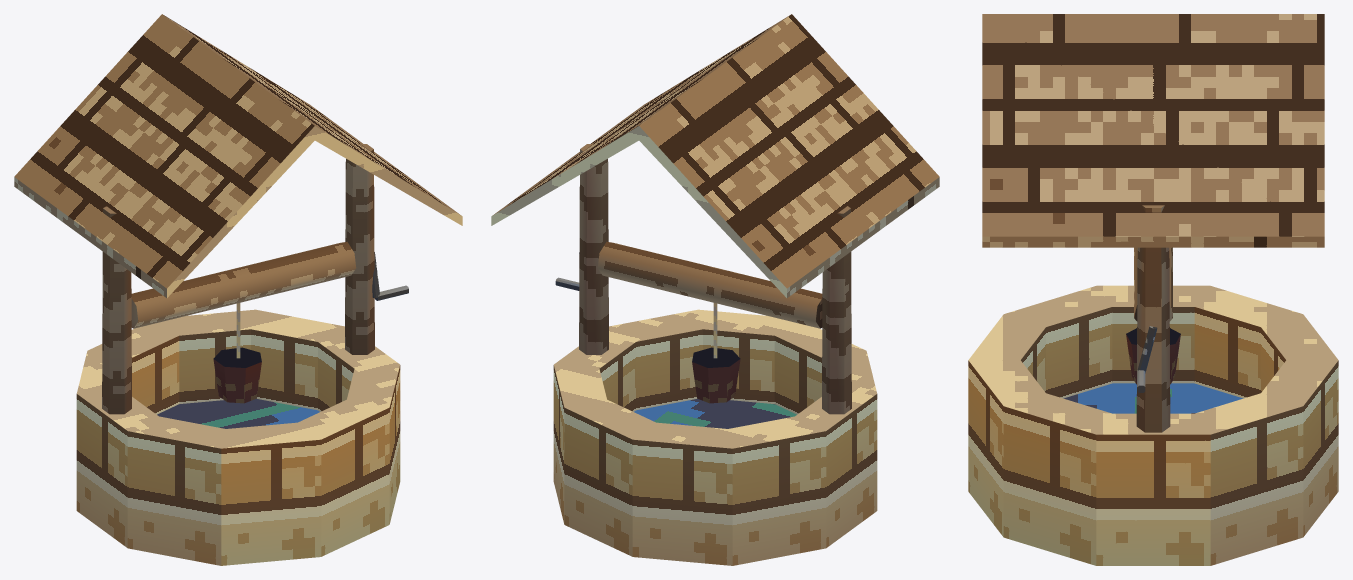
File: wprop.well.glb
3 renders of one model, left to right at view 1: azimuth 30°, elevation 25°; view 2: azimuth 150°, elevation 25°; view 3: azimuth 270°, elevation 25°, orthographic. The views are drawn at different scales.
Visible parts, largest first — view 1: kit_curb, kit_roof, kit_posts, kit_drum, kit_water, kit_bucket; view 2: kit_curb, kit_roof, kit_posts, kit_drum, kit_water, kit_bucket; view 3: kit_curb, kit_roof, kit_posts, kit_water, kit_bucket, kit_crank, kit_drum.
Part boxes in pixels (box(x1,y1,x2,y2)): kit_curb: box(76, 309, 400, 565); kit_roof: box(14, 14, 462, 297); kit_posts: box(102, 144, 374, 414); kit_drum: box(131, 241, 356, 328); kit_water: box(157, 398, 319, 428); kit_bucket: box(213, 347, 261, 403); kit_curb: box(553, 309, 877, 565); kit_roof: box(491, 14, 939, 297); kit_posts: box(579, 144, 851, 414); kit_drum: box(597, 241, 822, 328); kit_water: box(634, 398, 796, 428); kit_bucket: box(692, 347, 740, 403); kit_curb: box(968, 285, 1338, 565); kit_roof: box(982, 14, 1324, 247); kit_posts: box(1136, 205, 1170, 432); kit_water: box(1063, 383, 1243, 413); kit_bucket: box(1126, 328, 1180, 384); kit_crank: box(1137, 326, 1157, 392); kit_drum: box(1134, 247, 1172, 321).
Bounding box in the file's own units: 2 × 2.62 × 1.84.
Materials: 11 (11 with a texture image).
